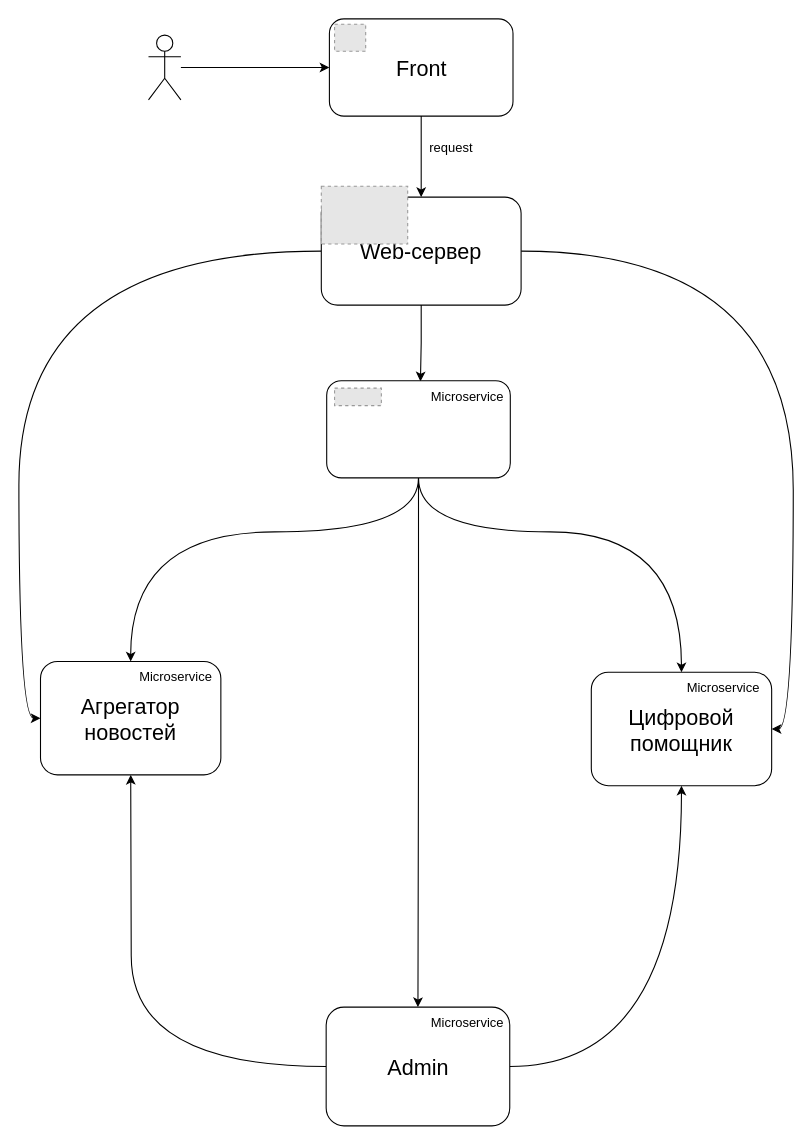
This 812x1145 diagram has some shape labels left out. Grey dashed boxes stand in for pictures. Each missing label, with the box of its shape:
Пользователь: (147, 34, 181, 100)
Сервер авторизации: (326, 380, 510, 478)
